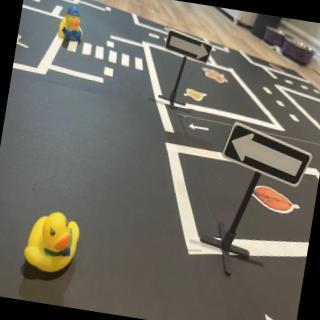duck_regular: (20, 207, 86, 280)
duck_specialty: (57, 3, 91, 45)
road_crosswalk: (64, 37, 150, 73)
road_oneway: (247, 309, 285, 320), (187, 121, 212, 135)
sign_oneway_left: (220, 123, 316, 190)
sign_oneway_right: (164, 30, 217, 67)
